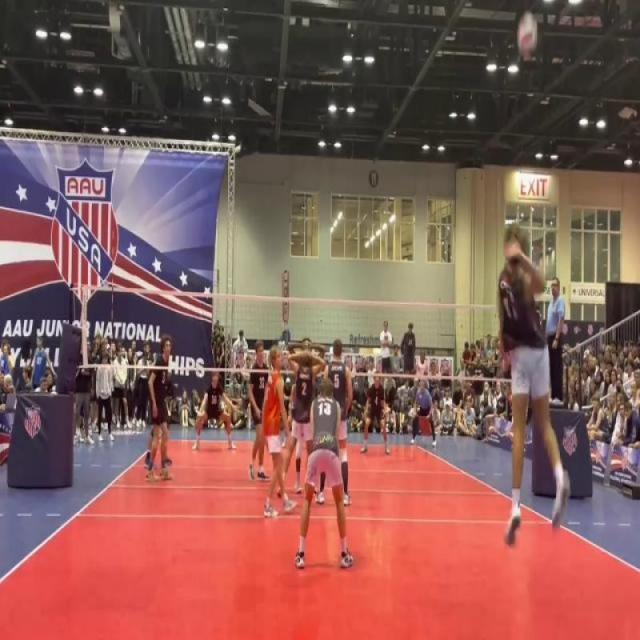volleyball: (514, 12, 539, 58)
